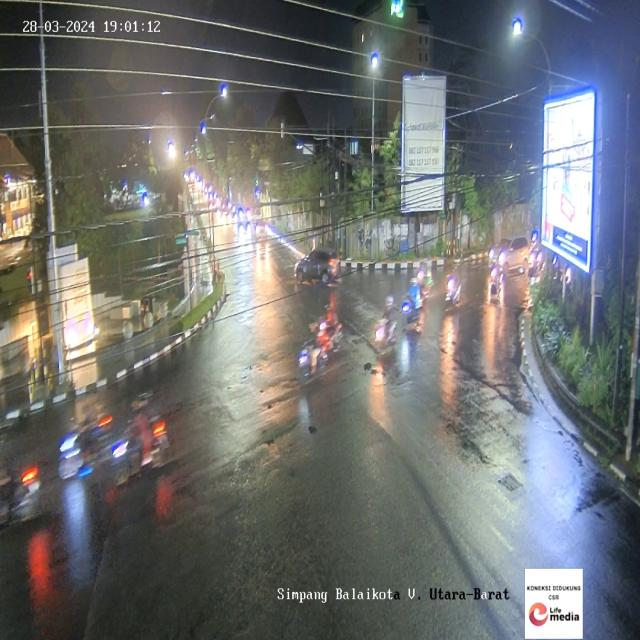car: (294, 247, 342, 286), (488, 234, 528, 278)
motorcycle: (111, 380, 173, 490), (54, 400, 112, 486), (0, 446, 40, 534), (296, 318, 328, 384), (401, 269, 427, 335), (313, 295, 340, 355), (374, 295, 396, 353), (445, 265, 461, 313), (489, 260, 502, 302)
